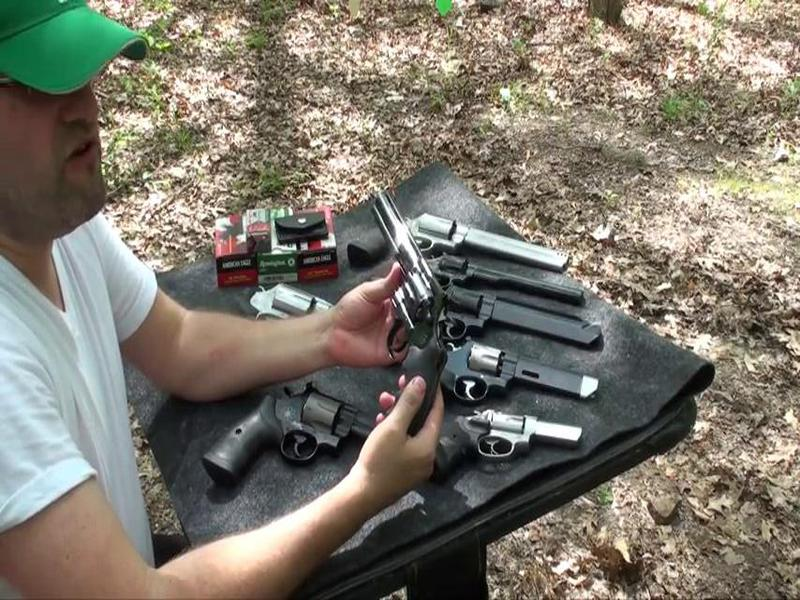Revolver: (357, 174, 444, 444)
